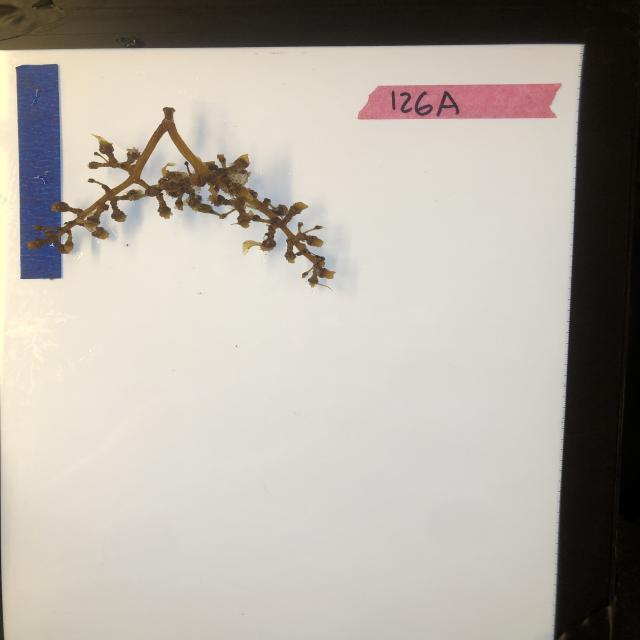index: (357, 80, 566, 122)
measure_label: (15, 62, 67, 282)
rachis_cluster: (24, 100, 339, 314)
